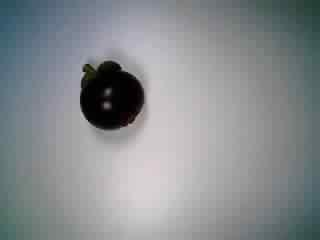mangosteen: (75, 56, 149, 135)
